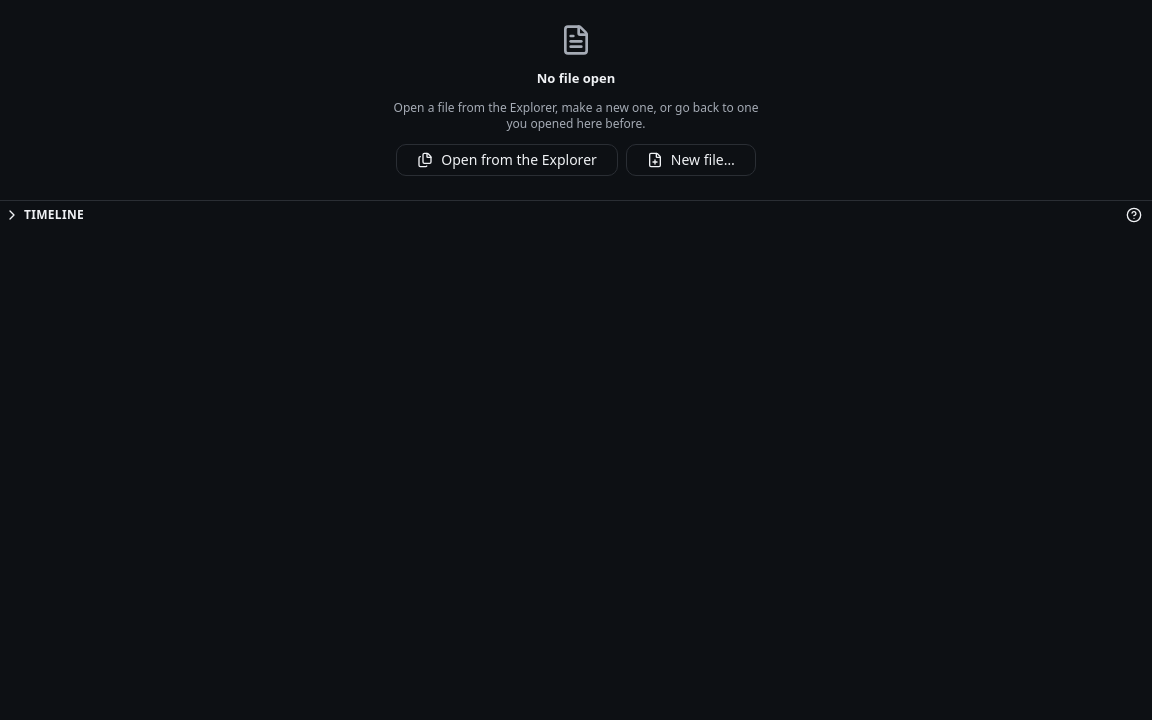
Test: the help of the Timeline — plan 07, B-60, S-351 › opens from its button with the ceiling the installation says, and its shortcuts
Click the button named "Help for the Timeline" at (1134, 215), box [1120, 201, 1148, 229]
(page scrolled)
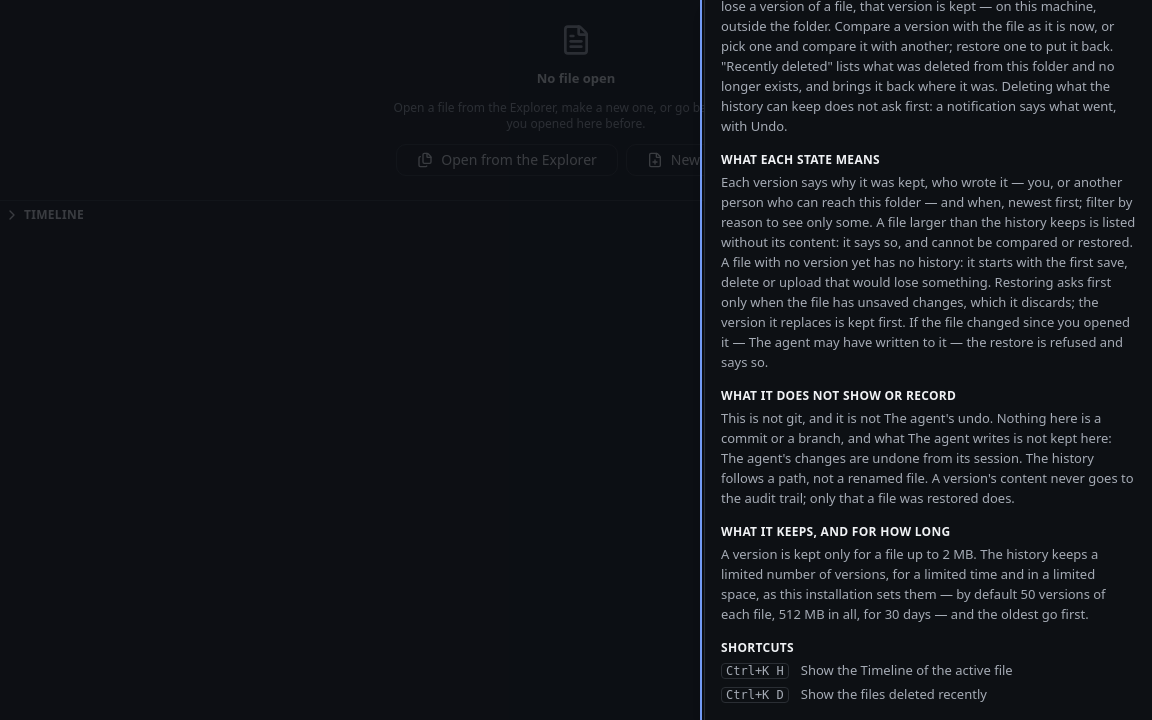
Press Escape
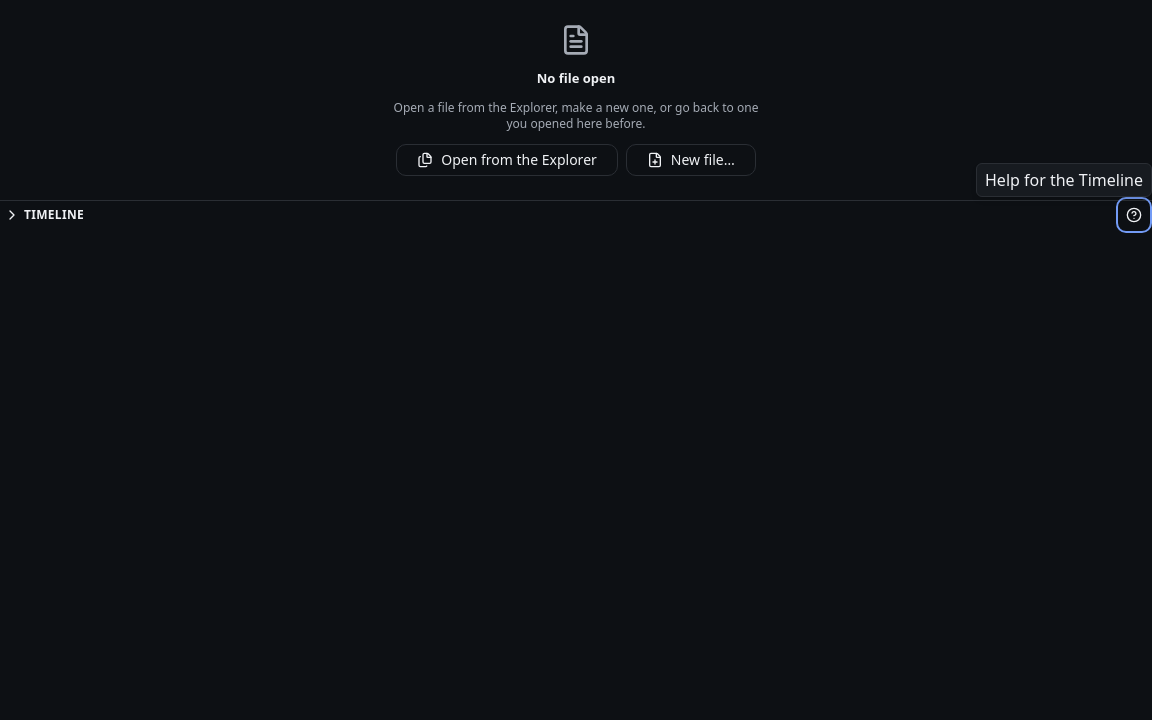
Expected: the dialog is gone
